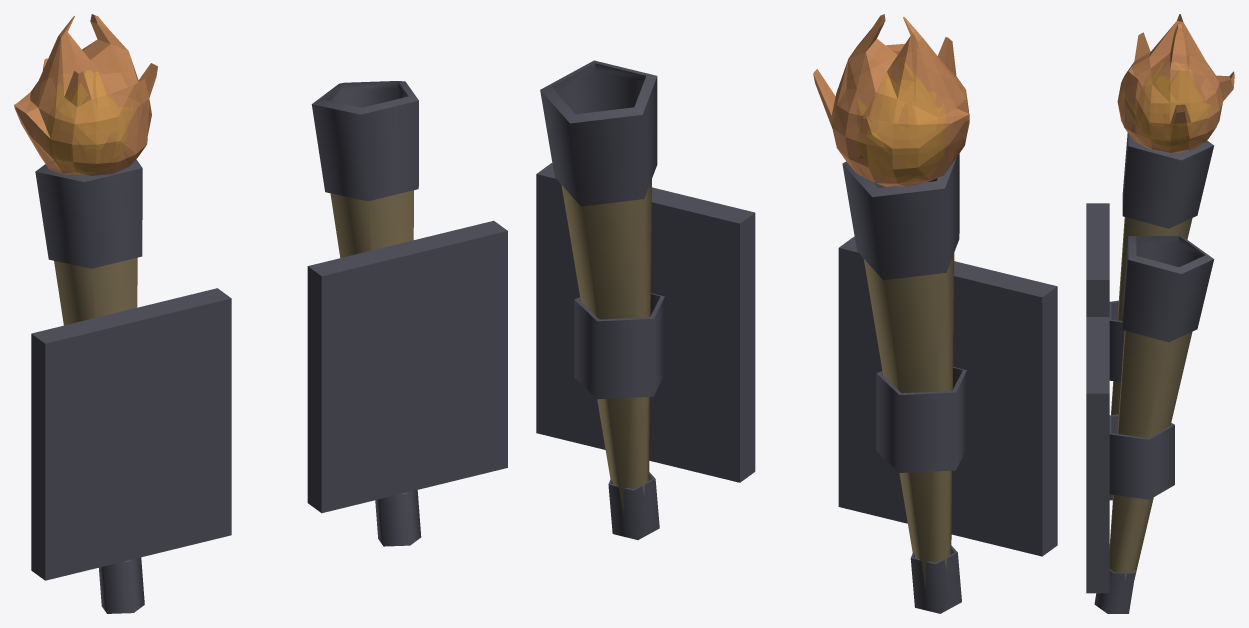
The model's file is torches.fbx.
3 views of the same model, side by side, from view 1: azimuth 30°, elevation 25°; view 2: azimuth 150°, elevation 25°; view 3: azimuth 270°, elevation 25° (orthographic). The views are drawn at different scales.
Visible parts, largest first — view 1: pCylinder50, pCylinder51, pCube361; view 2: pCylinder50, pCylinder51, pCube361; view 3: pCylinder50, pCylinder51, pCube361.
Part boxes in pixels (left/top/right/bottom): pCylinder50: left=307, top=81, right=507, bottom=546; pCylinder51: left=31, top=159, right=231, bottom=613; pCube361: left=14, top=14, right=157, bottom=175; pCylinder50: left=536, top=60, right=755, bottom=539; pCylinder51: left=838, top=153, right=1057, bottom=613; pCube361: left=813, top=14, right=969, bottom=186; pCylinder50: left=1086, top=235, right=1214, bottom=613; pCylinder51: left=1086, top=133, right=1214, bottom=500; pCube361: left=1117, top=14, right=1234, bottom=153.
Size of the model in its own units: 248 by 290 by 81.77.
